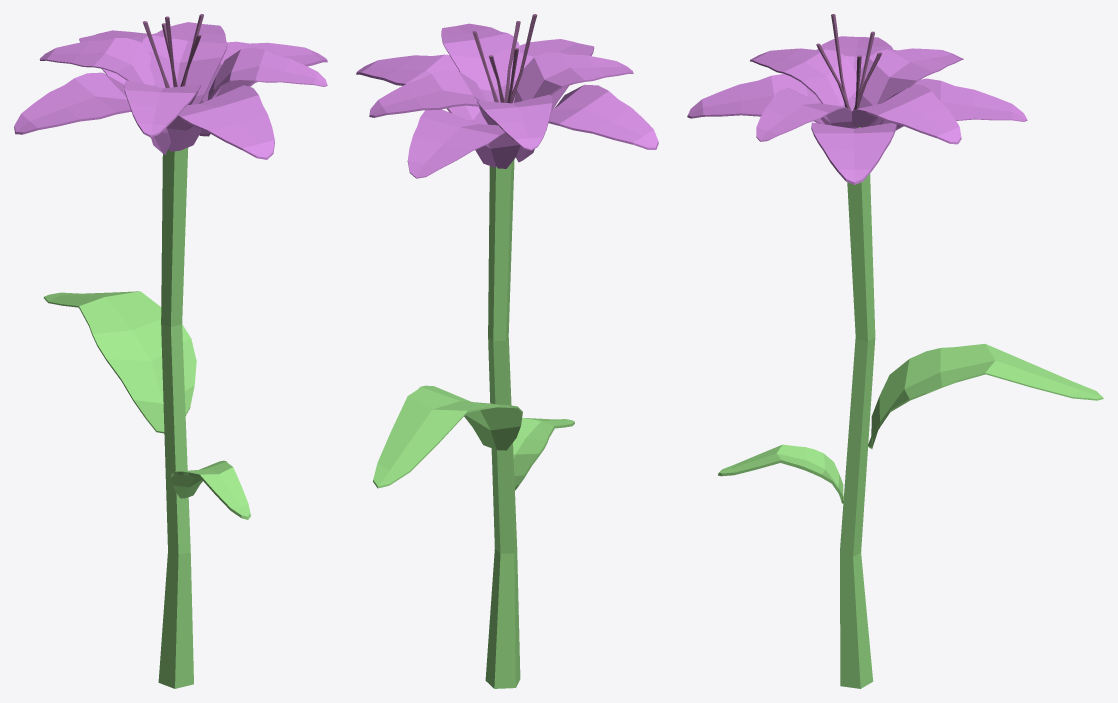
Rendered from Lilie.fbx.
The picture shows the model from 3 angles, left to right: view 1: azimuth 30°, elevation 25°; view 2: azimuth 150°, elevation 25°; view 3: azimuth 270°, elevation 25°; orthographic projection. The views are drawn at different scales.
Parts seen in each view (by area): view 1: Lilie; view 2: Lilie; view 3: Lilie.
Boxes of the visible parts, x1,y1,x2,y2 form: Lilie: (14,14,327,688); Lilie: (356,14,658,688); Lilie: (687,14,1103,688).
Size of the model in its own units: 15.31 by 32.17 by 18.49.
